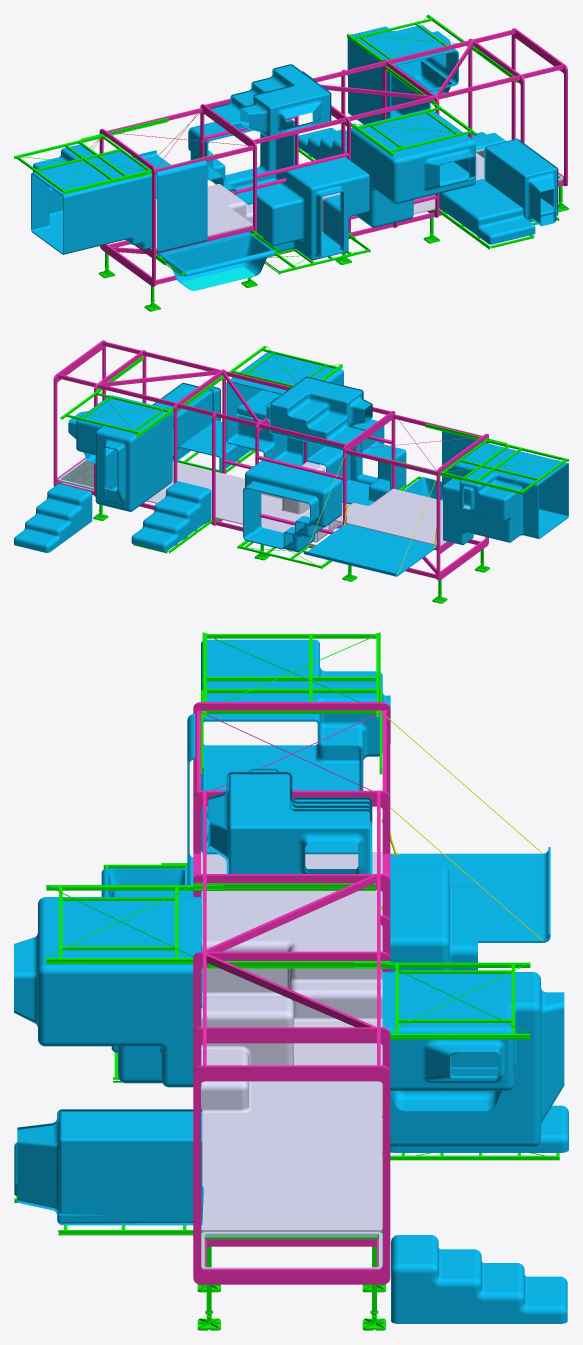
The model's file is 3D_projet.glb.
The picture shows the model from 3 angles, top to bottom: view 1: azimuth 30°, elevation 25°; view 2: azimuth 150°, elevation 25°; view 3: azimuth 270°, elevation 25°; orthographic projection. The views are drawn at different scales.
Size of the model in its own units: 0.1174 by 0.0372 by 0.0618.
